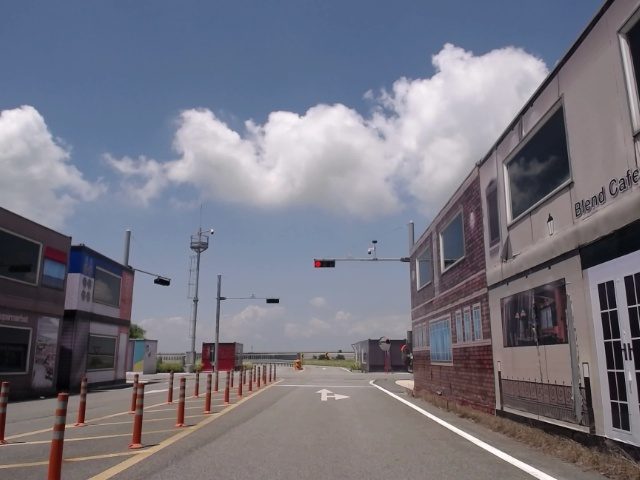red_3: (312, 258, 335, 268)
